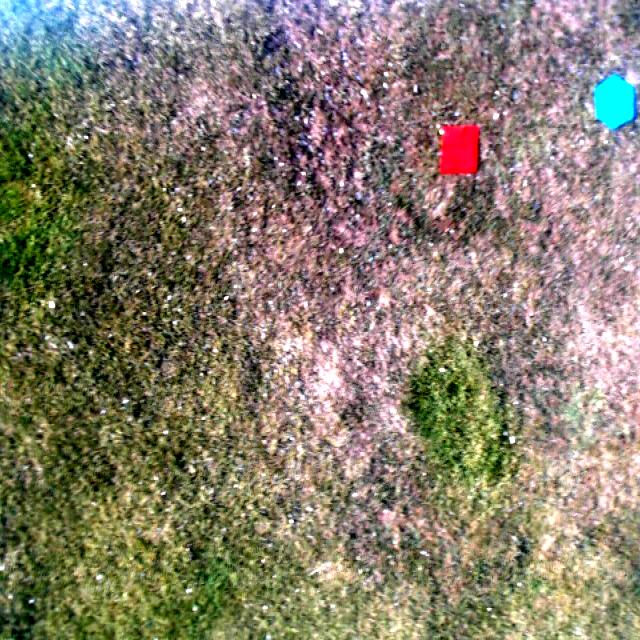blue_hexagon: (594, 74, 634, 133)
red_square: (441, 128, 478, 174)
